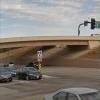Bridge: (5, 25, 99, 52)
